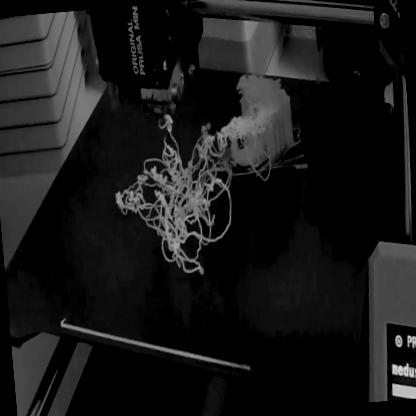fail: (110, 109, 267, 285)
